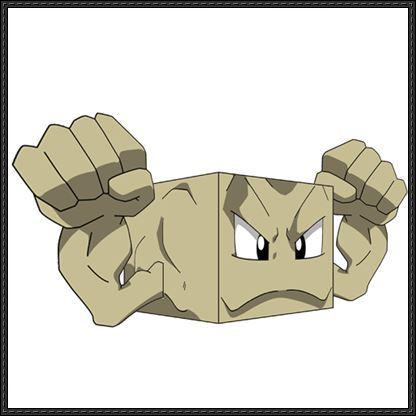Geodude: (1, 1, 416, 395)
